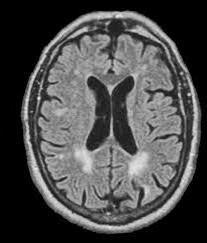Normal_Brain: (2, 3, 207, 243)
